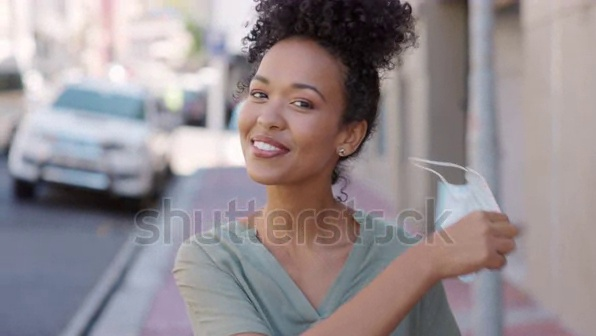No Mask: (231, 128, 325, 187)
